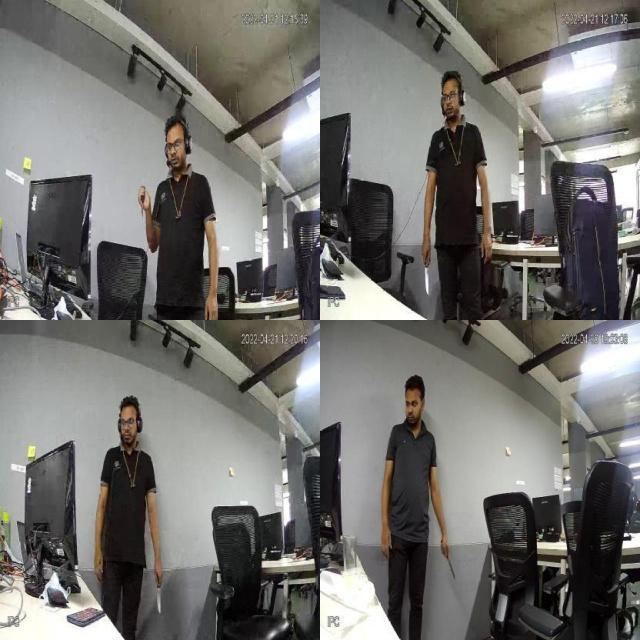-: (418, 255, 430, 297), (152, 577, 165, 615), (443, 549, 456, 584), (138, 187, 148, 228)
